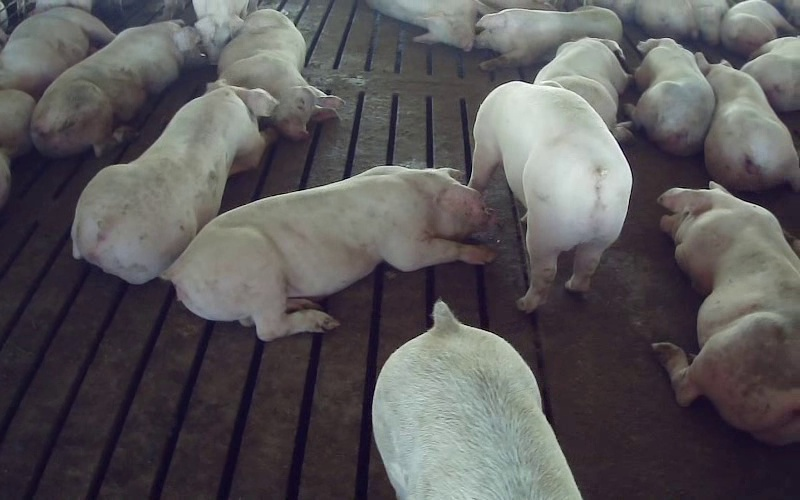pig: (162, 167, 492, 340), (72, 81, 277, 283), (374, 301, 580, 499), (652, 182, 799, 444), (469, 81, 631, 312), (31, 21, 199, 157), (218, 9, 342, 140), (696, 52, 799, 190), (0, 7, 114, 98), (626, 38, 714, 155), (535, 37, 632, 142), (741, 37, 799, 111), (720, 0, 795, 56)
